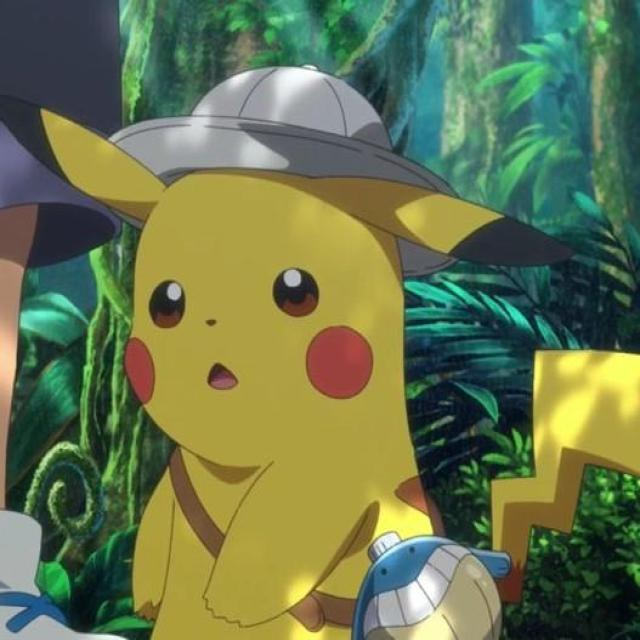pikachu: (0, 91, 640, 639)
